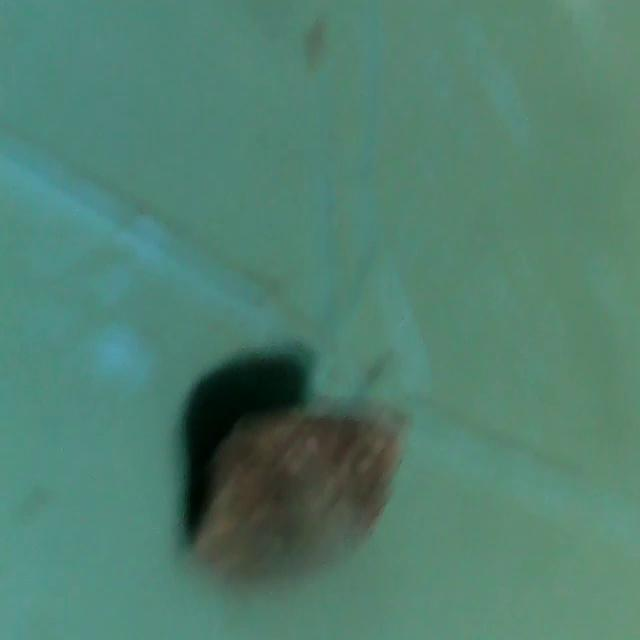rock: (173, 390, 425, 590)
